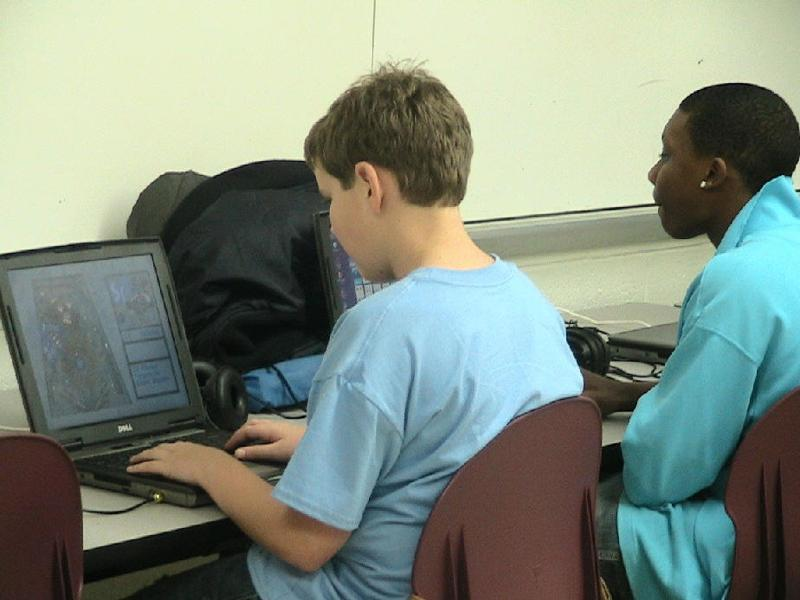person: (126, 66, 588, 600)
